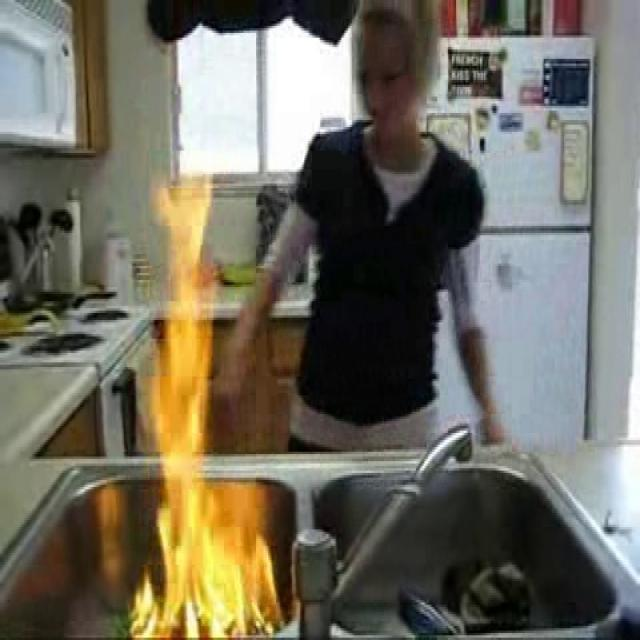Fire: (150, 186, 250, 631)
